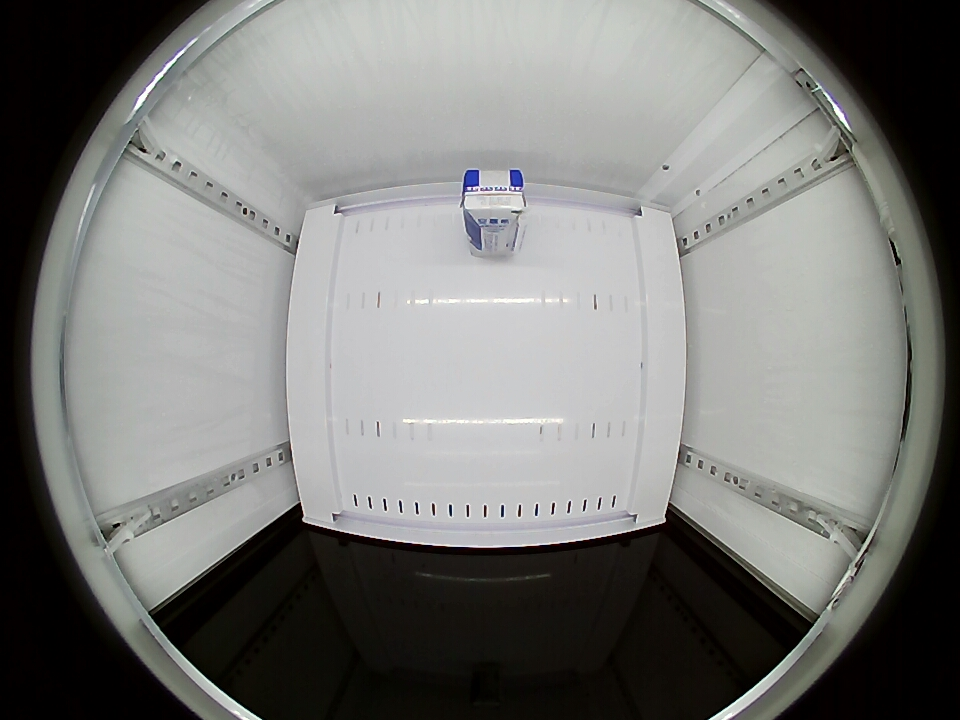anmuxi: (460, 169, 527, 225)
